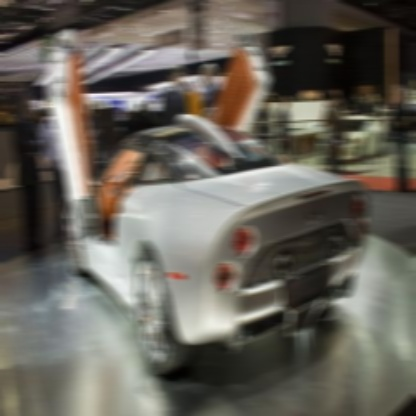Vehicle: (46, 28, 371, 384)
